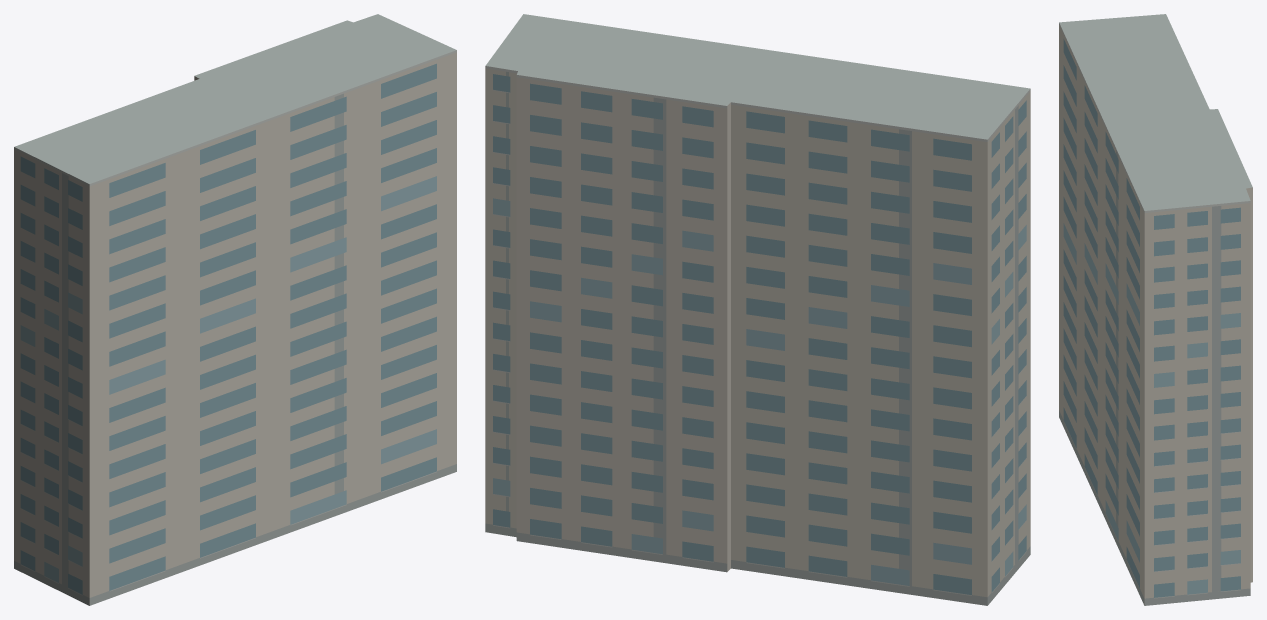
The model's file is survey-upis-33031651.glb.
The picture shows the model from 3 angles, left to right: view 1: azimuth 30°, elevation 25°; view 2: azimuth 150°, elevation 25°; view 3: azimuth 270°, elevation 25°; orthographic projection. The views are drawn at different scales.
Parts seen in each view (by area): view 1: survey-upis-33031651.tmp; view 2: survey-upis-33031651.tmp; view 3: survey-upis-33031651.tmp.
Part boxes in pixels (box(x1,y1,x2,y2)): survey-upis-33031651.tmp: box(14, 14, 456, 605); survey-upis-33031651.tmp: box(485, 14, 1030, 605); survey-upis-33031651.tmp: box(1059, 14, 1252, 605).
Bounding box in the file's own units: 48.98 × 45.75 × 20.36.
